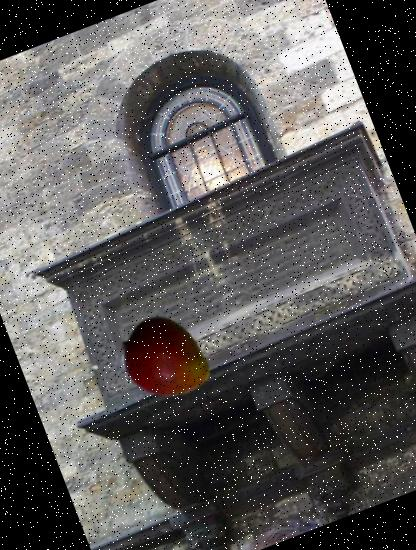Mango: (106, 299, 226, 419)
